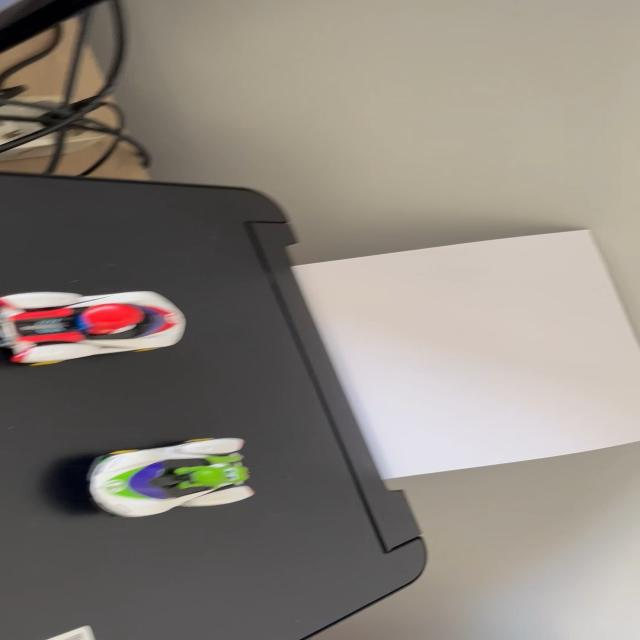mario: (0, 282, 208, 370)
yoshi: (70, 432, 270, 528)
